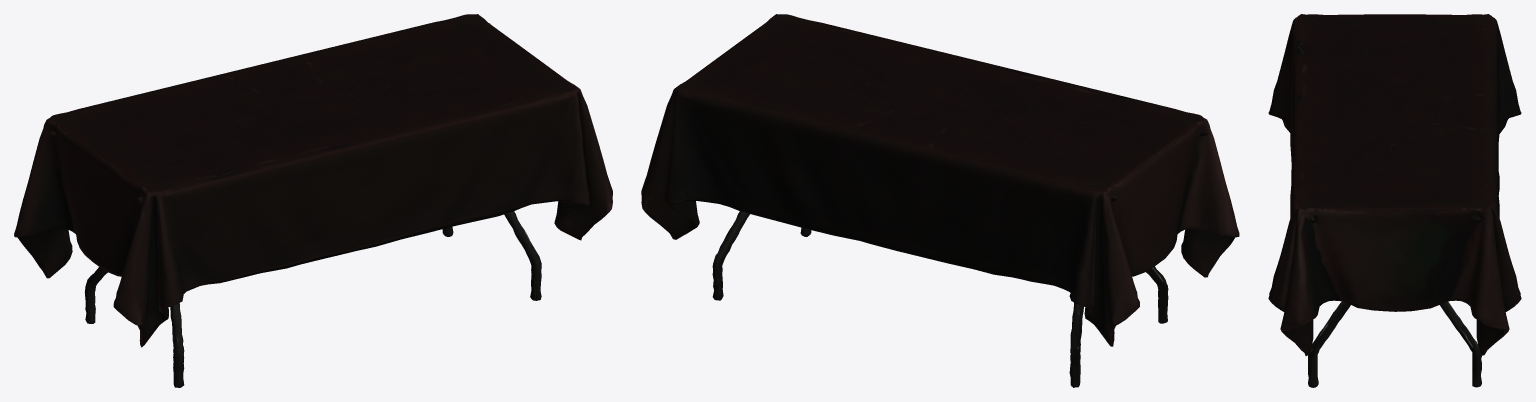
File: BNQ_TBLE_CHOCLATE_LIN_0630194400_texture.glb
3 views of the same model, side by side, from view 1: azimuth 30°, elevation 25°; view 2: azimuth 150°, elevation 25°; view 3: azimuth 270°, elevation 25° (orthographic). The views are drawn at different scales.
Visible parts, largest first — view 1: Mesh_0; view 2: Mesh_0; view 3: Mesh_0.
Boxes of the visible parts, left/top/right/bottom form: Mesh_0: left=14, top=14, right=612, bottom=387; Mesh_0: left=641, top=14, right=1239, bottom=387; Mesh_0: left=1268, top=14, right=1521, bottom=387.
Bounding box in the file's own units: 1.9 × 0.762 × 0.9027.
1 material, 1 textured.
